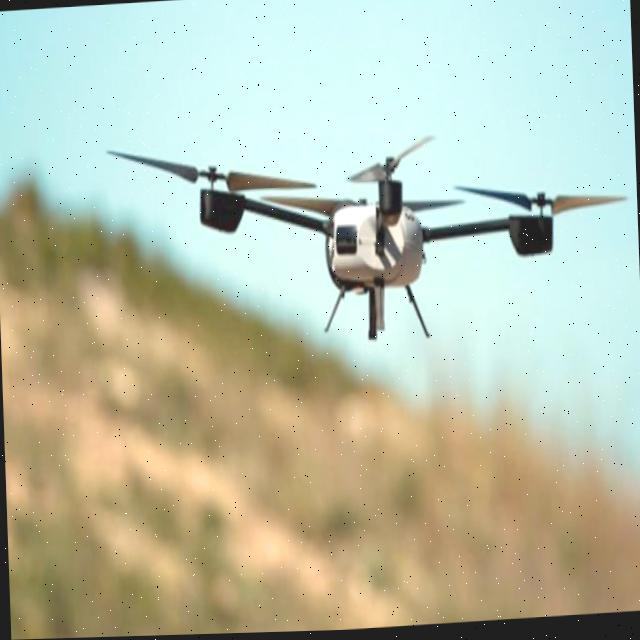drone: (89, 46, 640, 384)
